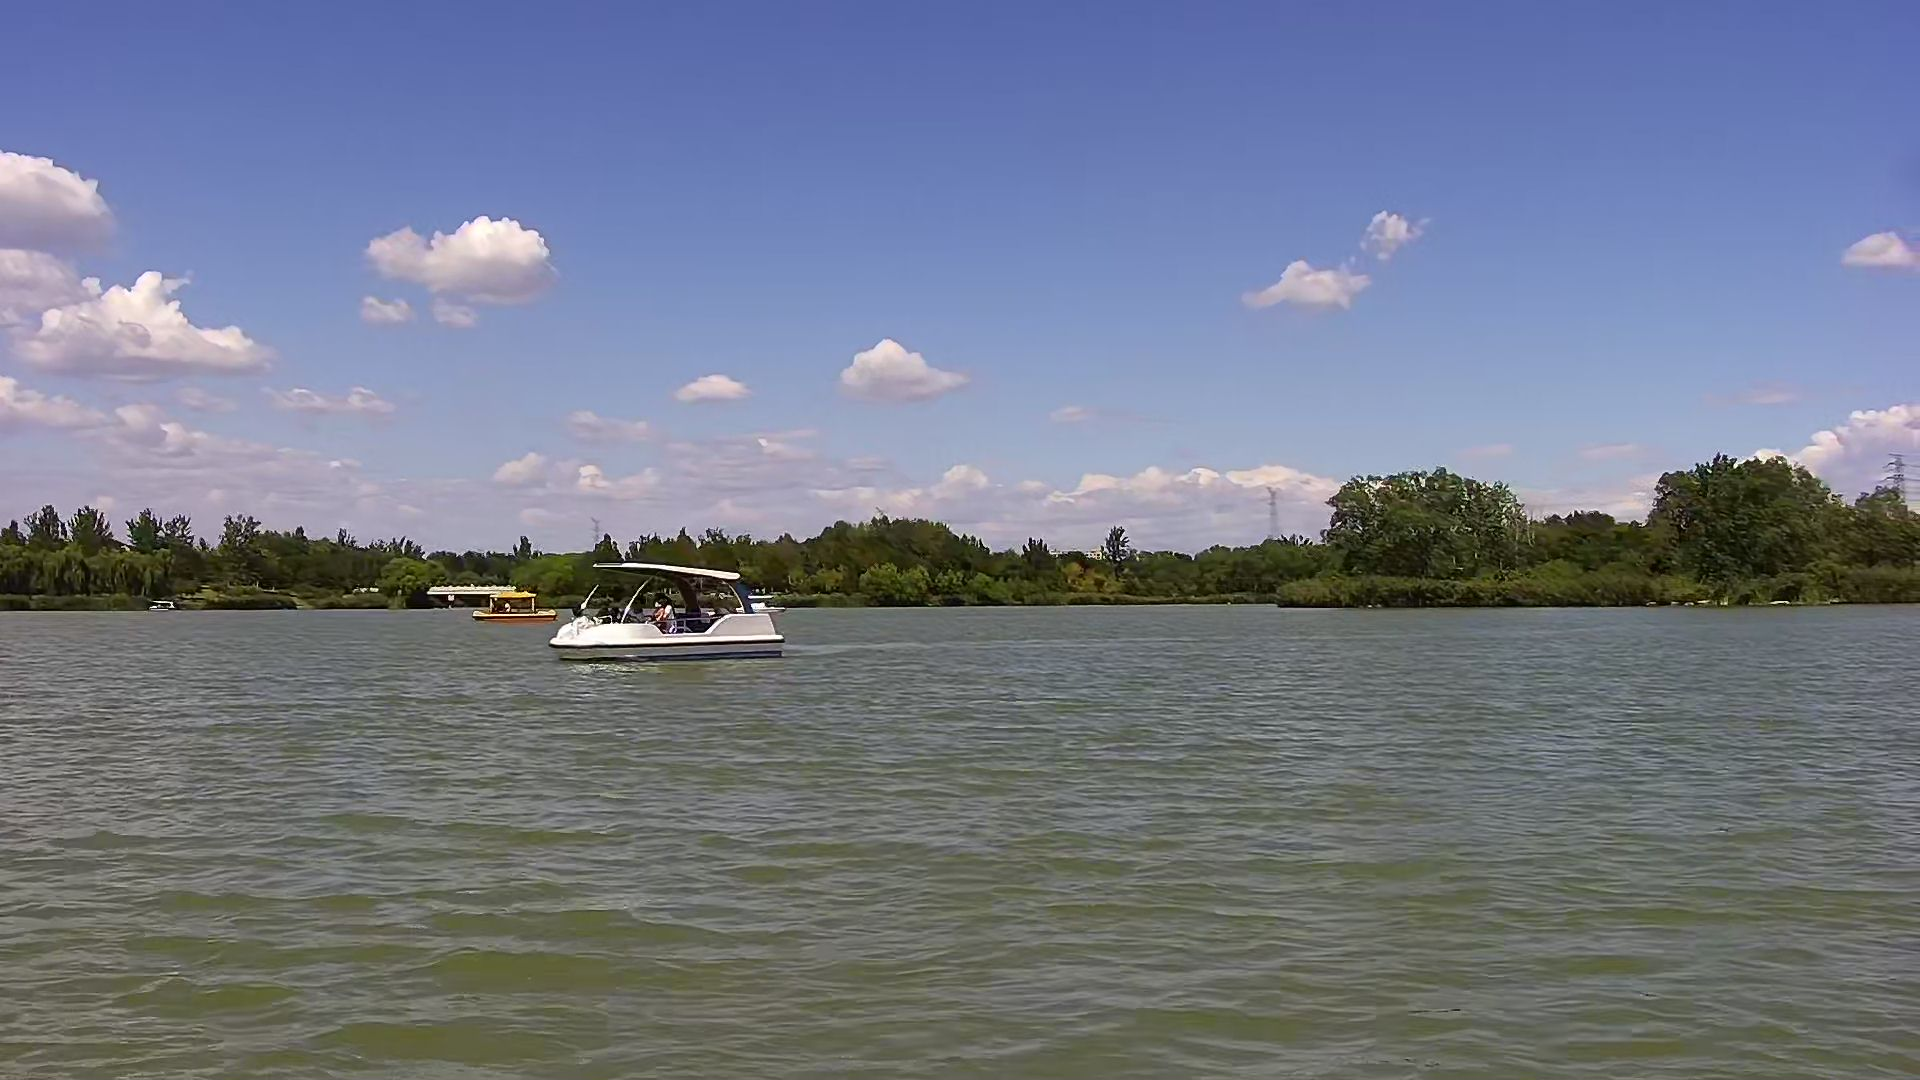boat: (553, 556, 785, 657), (473, 591, 551, 620)
bridge: (429, 583, 512, 608)
